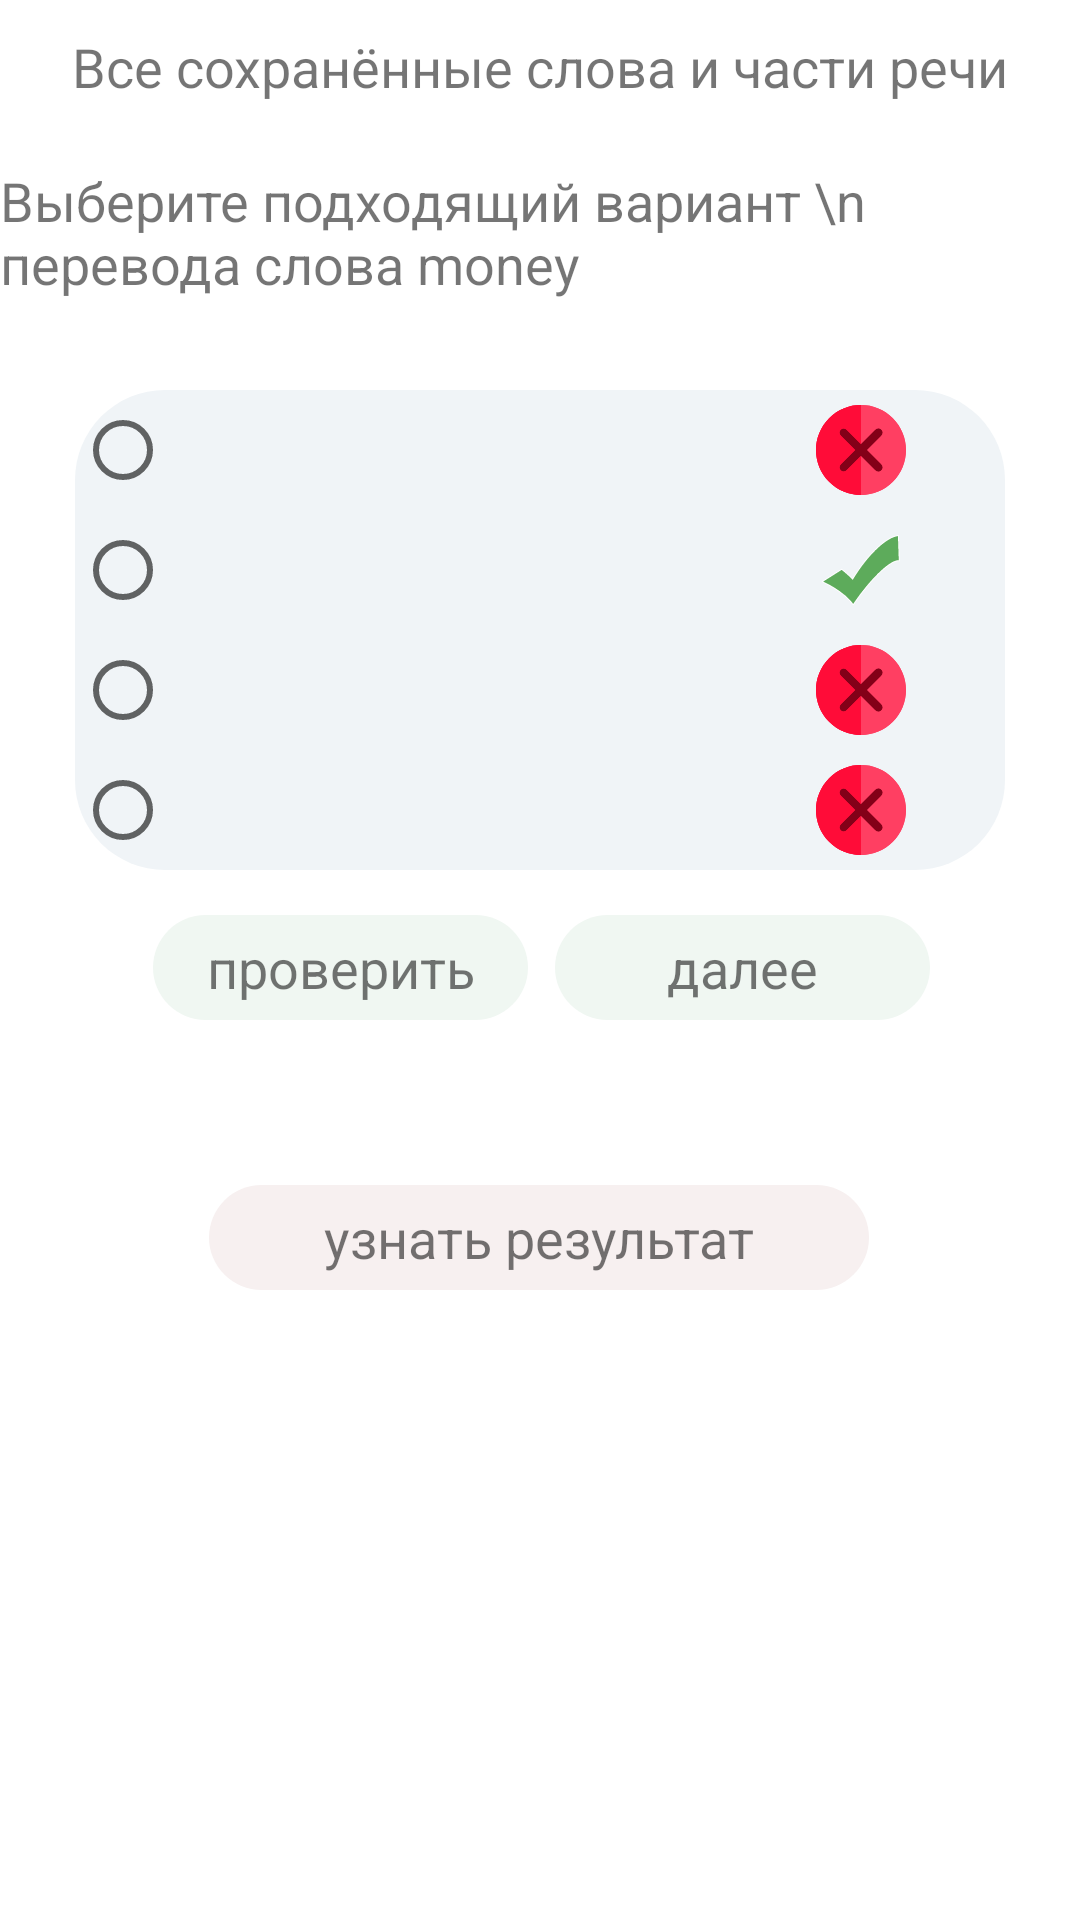

Locate icon controls on the screen. Image size 1080*1920, boxes as bbox(x1, y1, x2, y2).
result right answer: bbox(823, 536, 899, 604)
result wrong answer: bbox(816, 405, 906, 495), bbox(816, 645, 906, 735), bbox(816, 765, 906, 855)
